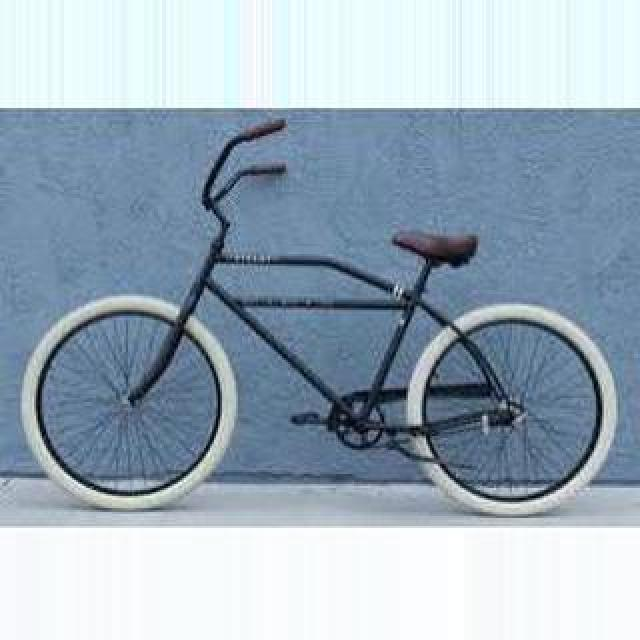Person: (17, 118, 617, 518)
